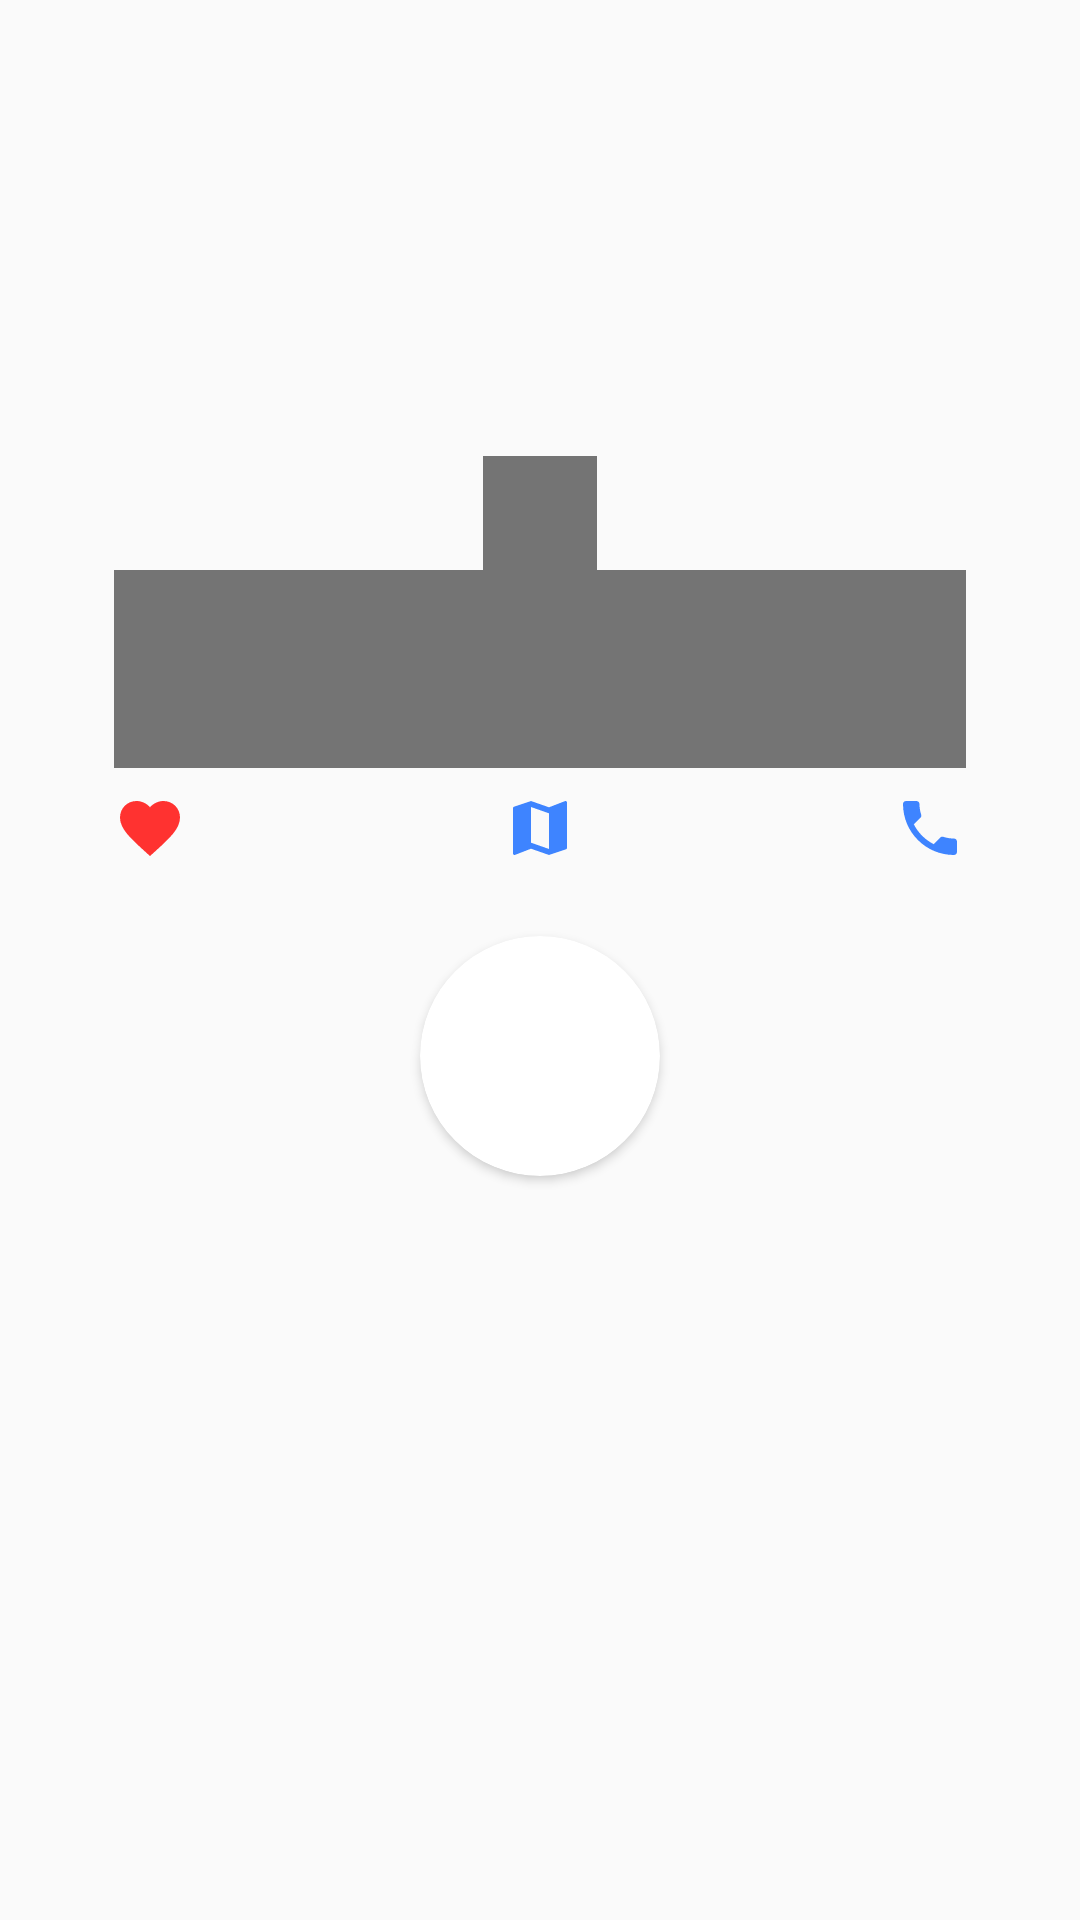

Icon bounding boxes for this 1080×1920 phone screenshot, format {"left": x1, "top": y1, "right": x2, "bottom": y2}:
call: {"left": 903, "top": 801, "right": 957, "bottom": 855}
go to map: {"left": 513, "top": 801, "right": 567, "bottom": 855}
like photo: {"left": 120, "top": 801, "right": 180, "bottom": 856}
